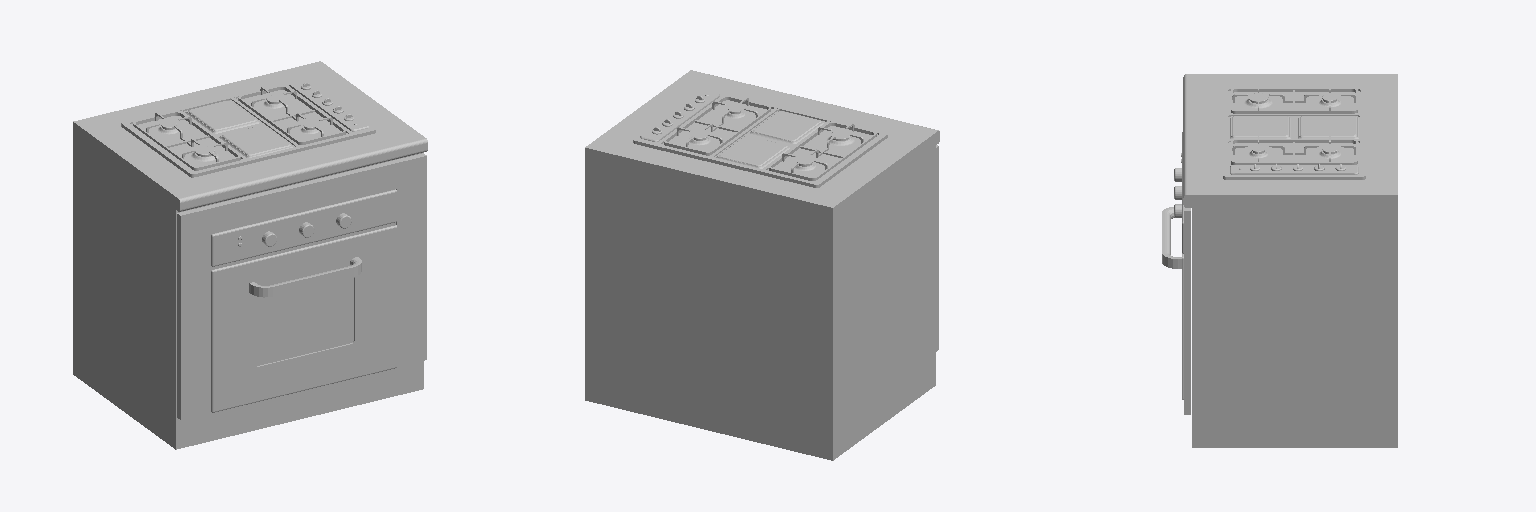
File: cocker.obj
3 renders of one model, left to right at view 1: azimuth 30°, elevation 25°; view 2: azimuth 150°, elevation 25°; view 3: azimuth 270°, elevation 25°, orthographic.
Visible parts, largest first — view 1: Box10_2, ChamferBox02_7, Line0911_5, Line15_1, Box11_3, Box12_10, Rectangle02_16, ChamferBox01_6, Line09_4, Loft05_9, Rectangle07_55, Rectangle08_56 (+3 smaller); view 2: Box10_2, Line15_1, Box11_3, Rectangle02_16, Rectangle08_56, Rectangle07_55, Rectangle01_17, Rectangle06_35, Rectangle04_18, Line09_4; view 3: Box10_2, Line15_1, Box11_3, Rectangle02_16, Line09_4, Rectangle08_56, Rectangle07_55, Rectangle04_18, Rectangle01_17, Rectangle06_35, Loft05_9.
Boxes of the visible parts, x1,y1,x2,y2 form: Box10_2: [73, 135, 421, 416]; ChamferBox02_7: [211, 225, 396, 412]; Line0911_5: [181, 156, 426, 419]; Line15_1: [73, 61, 427, 211]; Box11_3: [73, 342, 423, 449]; Box12_10: [256, 277, 353, 365]; Rectangle02_16: [121, 78, 375, 177]; ChamferBox01_6: [211, 189, 396, 266]; Line09_4: [177, 153, 426, 419]; Loft05_9: [249, 257, 361, 297]; Rectangle07_55: [188, 100, 256, 130]; Rectangle08_56: [222, 125, 290, 155]; Box10_2: [585, 146, 935, 427]; Line15_1: [585, 70, 939, 220]; Box11_3: [585, 353, 935, 460]; Rectangle02_16: [633, 88, 887, 187]; Rectangle08_56: [753, 111, 821, 141]; Rectangle07_55: [719, 136, 787, 165]; Rectangle01_17: [640, 91, 719, 141]; Rectangle06_35: [664, 96, 770, 155]; Rectangle04_18: [769, 122, 876, 180]; Line09_4: [936, 145, 938, 351]; Box10_2: [1192, 208, 1397, 415]; Line15_1: [1183, 74, 1397, 207]; Box11_3: [1192, 416, 1397, 447]; Rectangle02_16: [1223, 86, 1365, 179]; Line09_4: [1184, 207, 1190, 414]; Rectangle08_56: [1232, 116, 1288, 136]; Rectangle07_55: [1300, 116, 1356, 136]; Rectangle04_18: [1231, 88, 1357, 113]; Rectangle01_17: [1230, 165, 1358, 174]; Rectangle06_35: [1231, 139, 1357, 164]; Loft05_9: [1162, 207, 1181, 268].
Size of the model in its own units: 80 by 81.1 by 66.01.